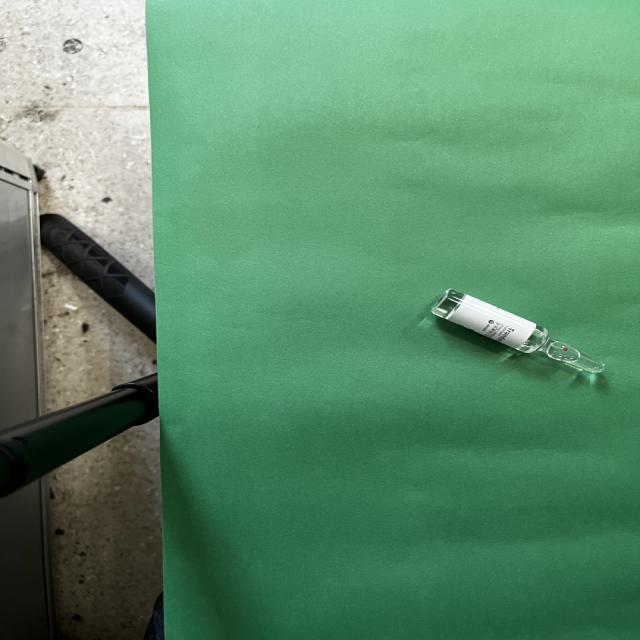Ampoules: (431, 288, 603, 374)
